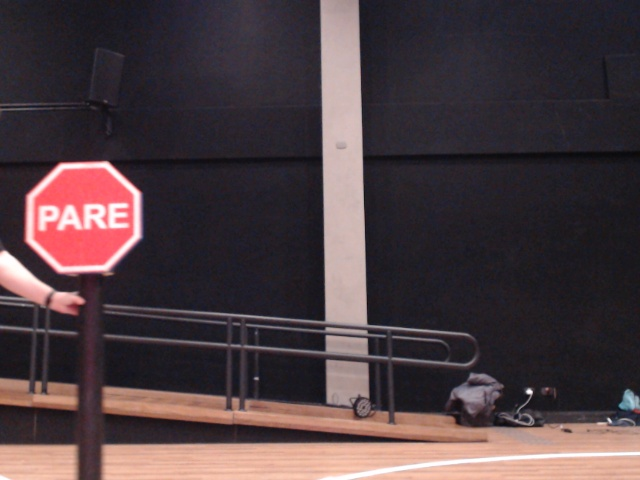SEMAFORO: (7, 144, 182, 305)
